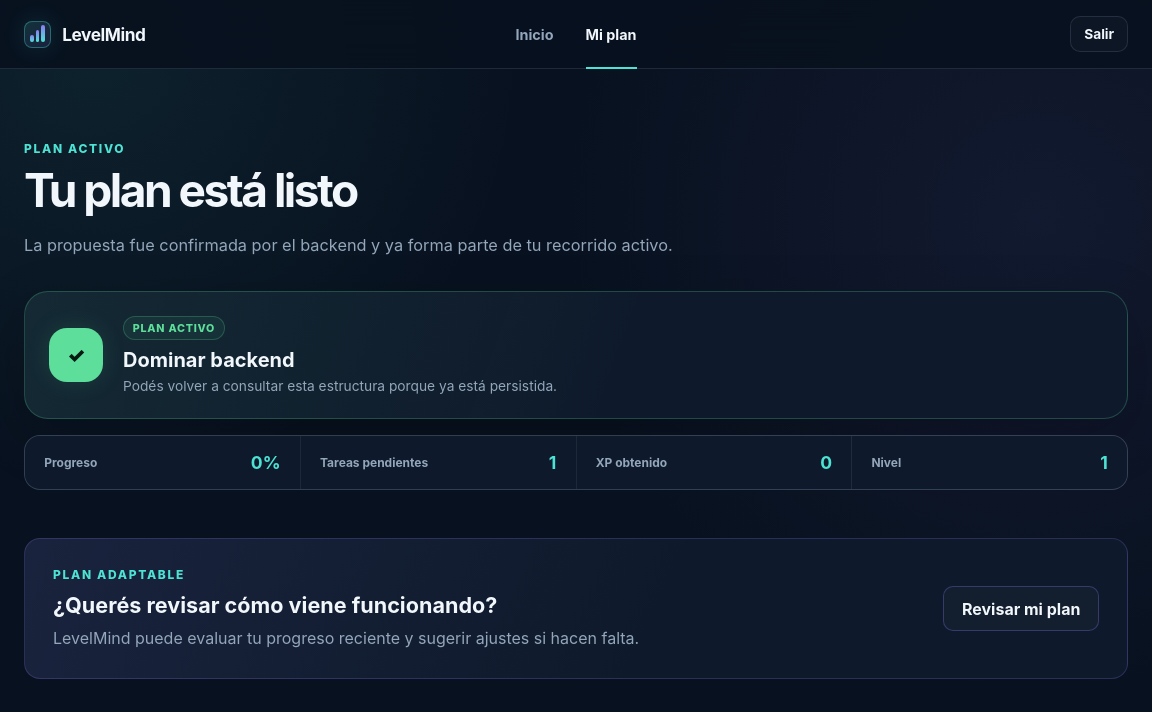
Scenario: adaptation HITL flow › renders backend no_change content without review actions
Click the button "Revisar mi plan" at (1021, 609), box [943, 586, 1099, 631]
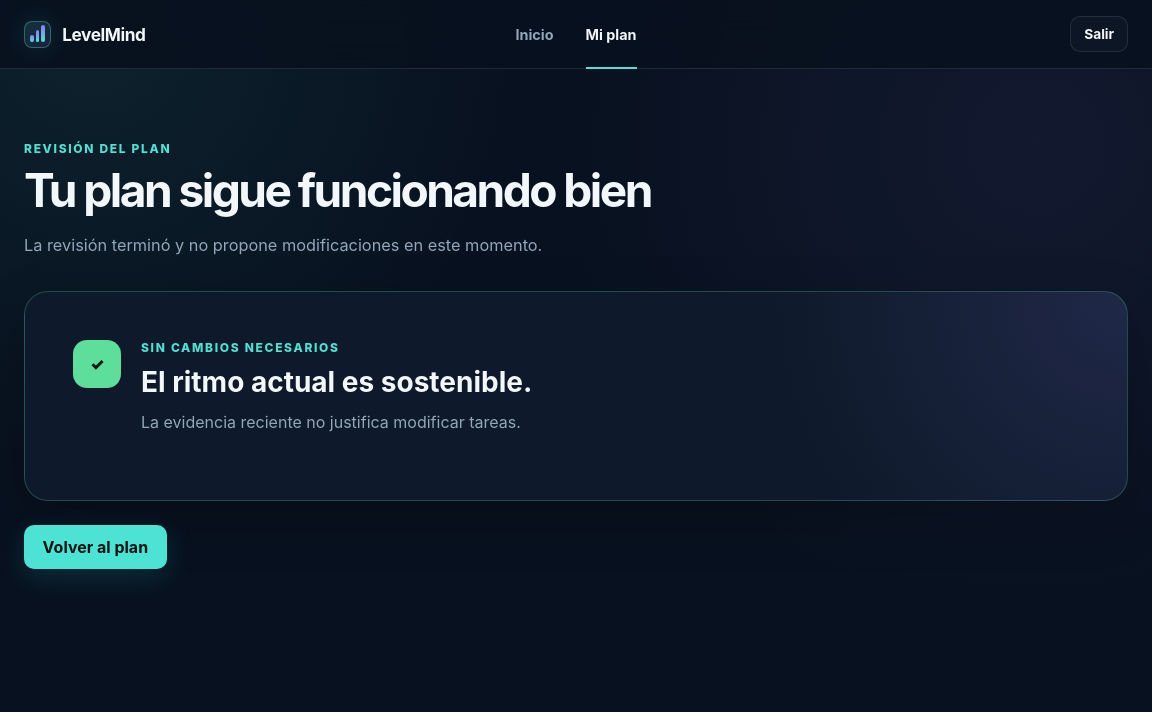
Check: the heading "El ritmo actual es sostenible." is shown, box [141, 365, 532, 399]
Check: the text "La evidencia reciente no justifica modificar tareas." is shown, box [141, 409, 532, 436]
